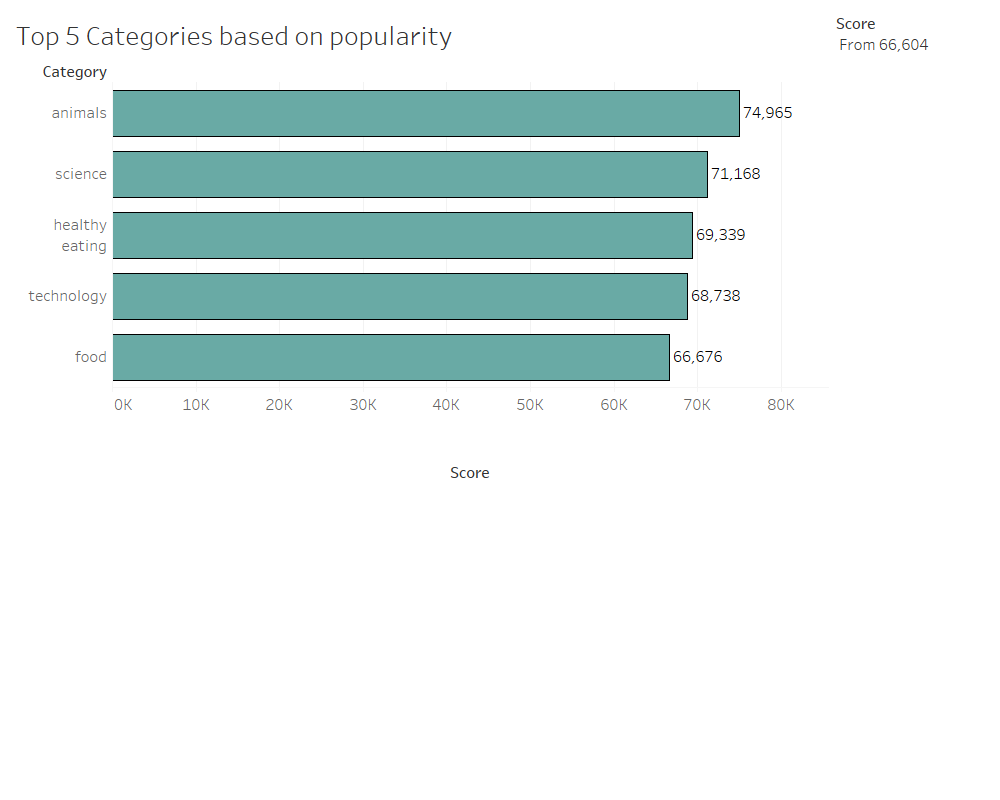

Layout of this report page (visuals, bound fields, positions):
{"tool":"tableau","page":{"name":"Dashboard 1","canvas":[1000,800],"ordinal":0},"visuals":[{"type":"worksheet","title":"Top 5 Categories based on popularity ","mark":"Automatic","rows":["Category"],"cols":["Score"],"box":[8,8,824,784]},{"type":"filter","title":"Top 5 Categories based on popularity ","param":"[federated.1fvszlz0esf1cw127qa871diqsed].[sum:Score:qk]","box":[832,8,160,73]}]}

Visuals, with their boxes in screenshot pixels (x1, y1, x2, y2), scaled from the page's 1000x800 canvas onto the 1000x800 screenshot:
"Top 5 Categories based on popularity " worksheet: 8/8/832/792
"Top 5 Categories based on popularity " filter: 832/8/992/81
